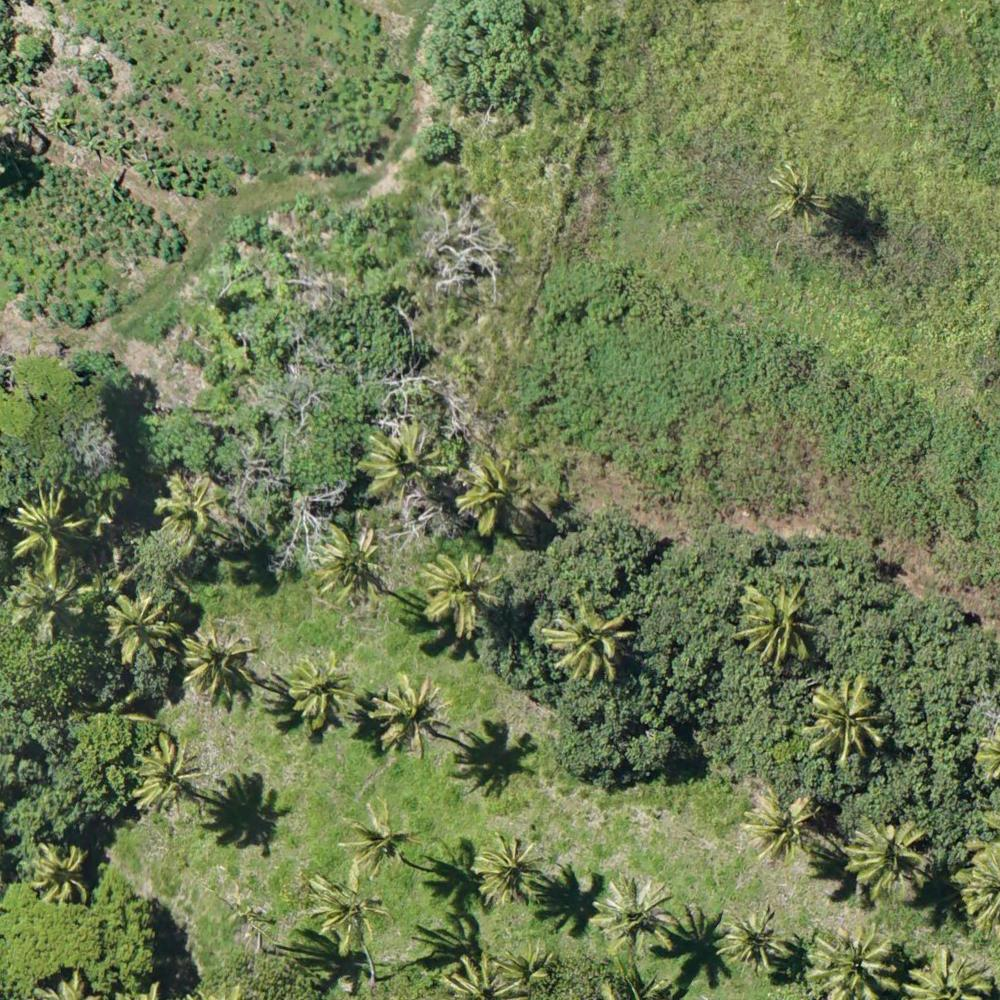not plam: (593, 250, 672, 323), (732, 338, 814, 404), (675, 664, 747, 738), (559, 701, 637, 769), (146, 208, 221, 278), (105, 885, 176, 958), (581, 493, 651, 567), (433, 208, 508, 276), (16, 746, 87, 817), (911, 617, 983, 687), (9, 313, 80, 383), (516, 25, 586, 95), (882, 396, 953, 465), (8, 393, 80, 461), (162, 317, 235, 383), (845, 29, 915, 97), (677, 495, 742, 568), (463, 347, 537, 411), (33, 201, 102, 269), (819, 533, 887, 602), (642, 793, 711, 861), (151, 396, 219, 463), (396, 124, 467, 186), (648, 92, 716, 156), (354, 301, 423, 363), (6, 658, 68, 724), (433, 9, 500, 66)
